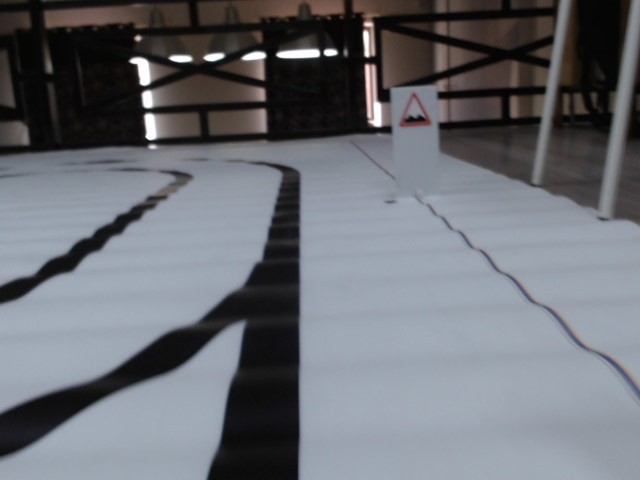Nerov: (399, 92, 433, 129)
